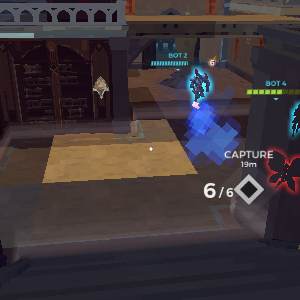model: (272, 145, 300, 197)
